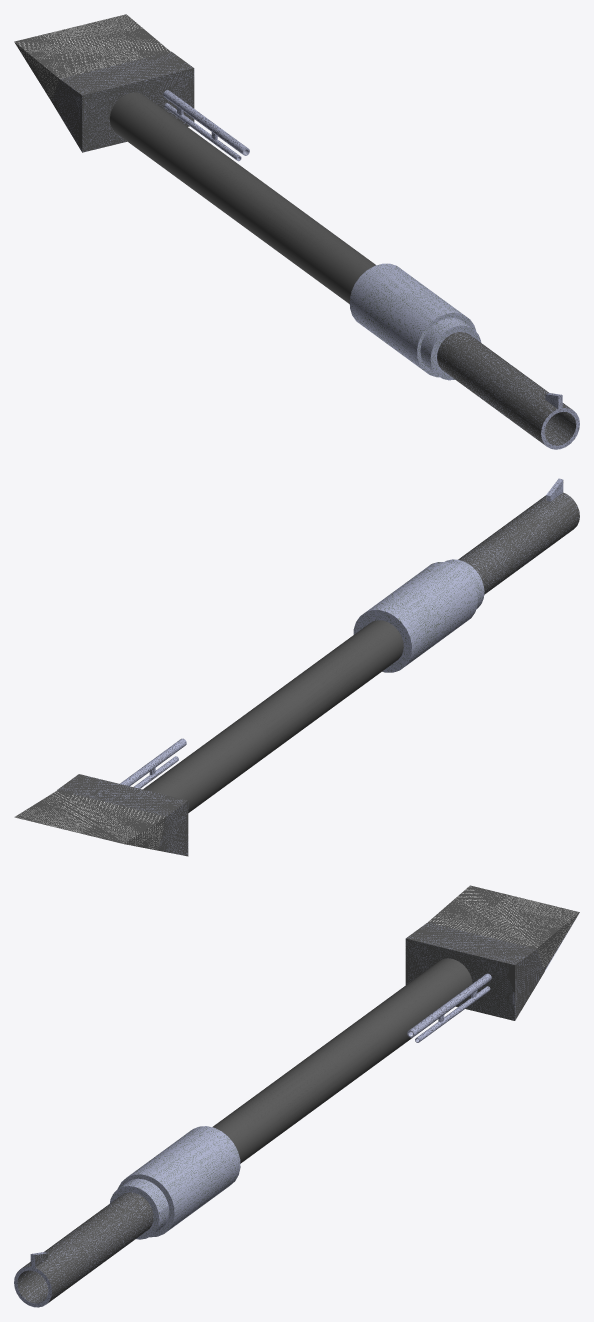
The model's file is tank3.obj.
3 renders of one model, top to bottom at view 1: azimuth 30°, elevation 25°; view 2: azimuth 150°, elevation 25°; view 3: azimuth 330°, elevation 25°, orthographic. The views are drawn at different scales.
Visible parts, largest first — view 1: SketchUp.789_ID1603, SketchUp_ID3.001, SketchUp.825_ID1907, SketchUp.1112_ID4286, SketchUp.1096_ID4158, SketchUp.1139_ID4502, SketchUp.1203_ID5022, SketchUp.1147_ID4566; view 2: SketchUp.789_ID1603, SketchUp_ID3.001, SketchUp.825_ID1907, SketchUp.1112_ID4286, SketchUp.1139_ID4502, SketchUp.1096_ID4158; view 3: SketchUp_ID3.001, SketchUp.789_ID1603, SketchUp.825_ID1907, SketchUp.1112_ID4286, SketchUp.1096_ID4158, SketchUp.1139_ID4502, SketchUp.1203_ID5022, SketchUp.1147_ID4566.
Part boxes in pixels (x1,y1,x2,y2): SketchUp.789_ID1603: (110,92,375,303); SketchUp_ID3.001: (14,14,194,152); SketchUp.825_ID1907: (349,263,476,377); SketchUp.1112_ID4286: (437,331,572,445); SketchUp.1096_ID4158: (420,318,481,380); SketchUp.1139_ID4502: (163,90,247,154); SketchUp.1203_ID5022: (544,411,576,445); SketchUp.1147_ID4566: (541,393,579,449); SketchUp.789_ID1603: (143,620,403,812); SketchUp_ID3.001: (14,774,188,856); SketchUp.825_ID1907: (353,562,477,672); SketchUp.1112_ID4286: (458,492,579,594); SketchUp.1139_ID4502: (120,738,186,786); SketchUp.1096_ID4158: (445,559,484,609); SketchUp_ID3.001: (405,885,579,1020); SketchUp.789_ID1603: (212,958,472,1163); SketchUp.825_ID1907: (117,1126,240,1237); SketchUp.1112_ID4286: (21,1192,153,1303); SketchUp.1096_ID4158: (110,1178,169,1239); SketchUp.1139_ID4502: (409,973,491,1036); SketchUp.1203_ID5022: (17,1270,48,1303); SketchUp.1147_ID4566: (14,1252,51,1307).
Bounding box in the file's own units: 0.5897 × 0.3332 × 4.49.
